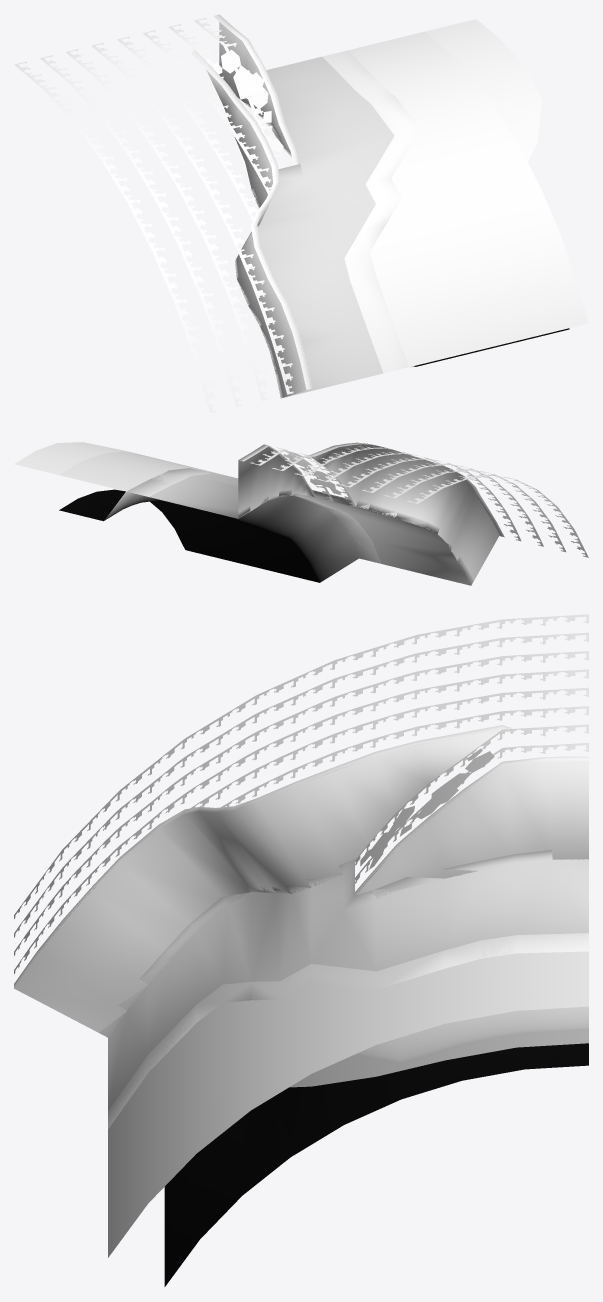
Rendered from grd_Mse_e_S_2.dae.
3 views of the same model, one above another, from view 1: azimuth 30°, elevation 25°; view 2: azimuth 150°, elevation 25°; view 3: azimuth 270°, elevation 25° (orthographic). The views are drawn at different scales.
Parts seen in each view (by area): view 1: grd_Mse_e_S_2; view 2: grd_Mse_e_S_2; view 3: grd_Mse_e_S_2.
Part boxes in pixels (box(x1,y1,x2,y2)): grd_Mse_e_S_2: box(14, 14, 588, 413); grd_Mse_e_S_2: box(14, 442, 588, 585); grd_Mse_e_S_2: box(14, 614, 588, 1286).
Size of the model in its own units: 576 by 308 by 423.
Materials: 7 (1 with a texture image).
